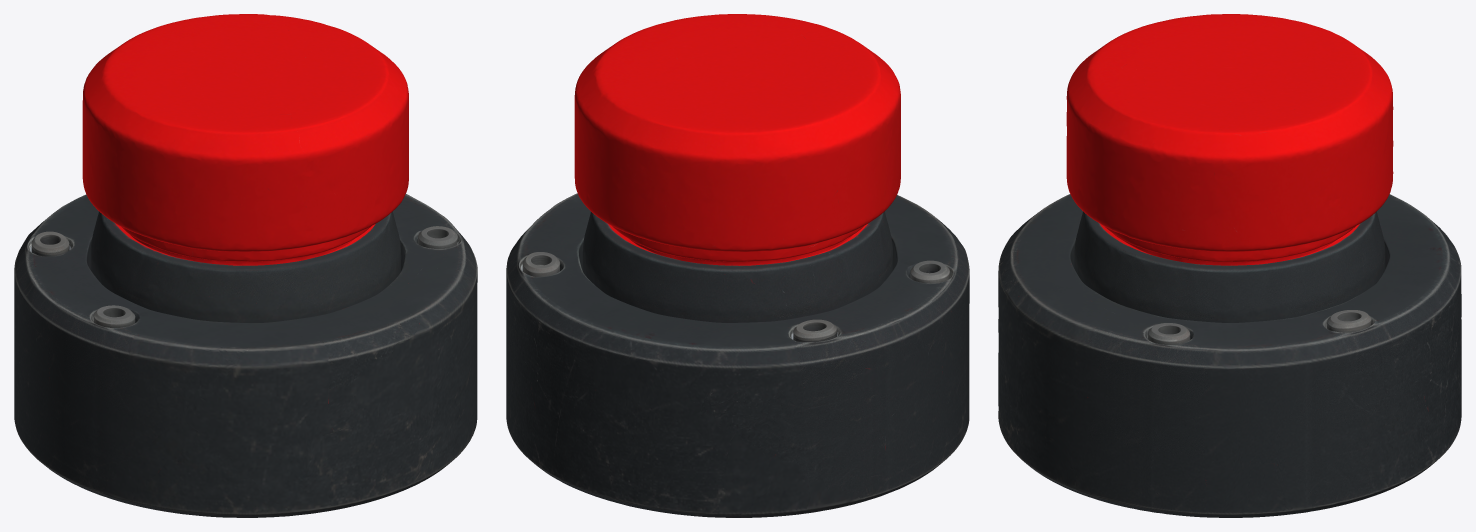
The model's file is Meshy_AI_vr_red_button_model_20261110_image-to-3d-texture.fbx.
3 views of the same model, side by side, from view 1: azimuth 30°, elevation 25°; view 2: azimuth 150°, elevation 25°; view 3: azimuth 270°, elevation 25° (orthographic).
Parts seen in each view (by area): view 1: Mesh_0; view 2: Mesh_0; view 3: Mesh_0.
Part boxes in pixels (bbox=[...]): Mesh_0: bbox=[14, 14, 477, 517]; Mesh_0: bbox=[506, 14, 969, 517]; Mesh_0: bbox=[998, 14, 1461, 517].
Size of the model in its own units: 190 by 159 by 190.
Materials: 1 (1 with a texture image).
